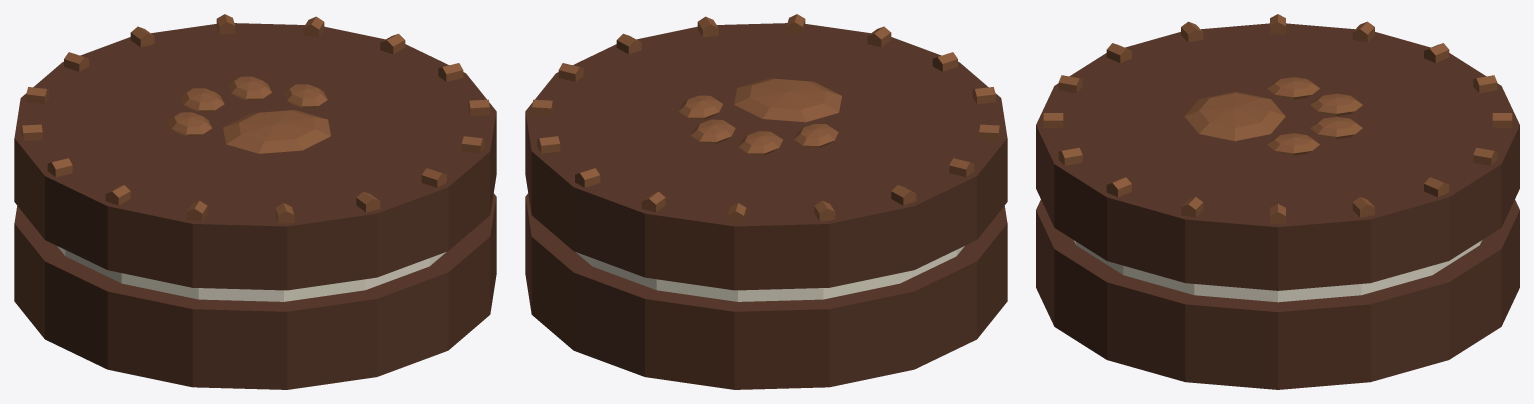
File: biscuit.glb
3 views of the same model, side by side, from view 1: azimuth 30°, elevation 25°; view 2: azimuth 150°, elevation 25°; view 3: azimuth 270°, elevation 25° (orthographic).
Visible parts, largest first — view 1: biscuit; view 2: biscuit; view 3: biscuit.
Boxes of the visible parts, x1,y1,x2,y2 form: biscuit: (14, 14, 496, 389); biscuit: (525, 14, 1007, 389); biscuit: (1036, 14, 1519, 389).
Size of the model in its own units: 0.6346 by 0.26 by 0.6346.
